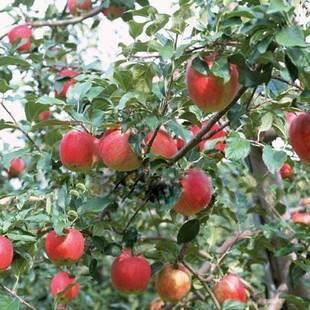apple: (185, 52, 239, 111), (170, 168, 212, 216), (97, 128, 138, 171), (57, 129, 97, 171), (109, 252, 149, 292), (43, 227, 83, 263), (141, 125, 184, 157), (154, 264, 190, 301), (287, 112, 309, 163), (36, 110, 51, 121)
